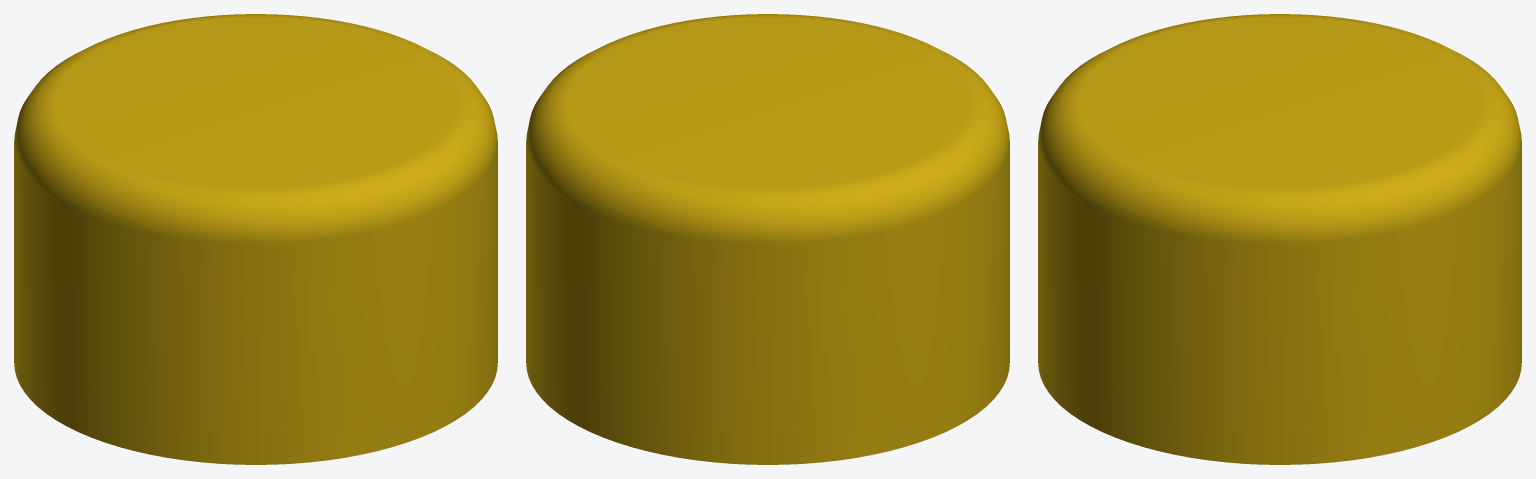
The picture shows the model from 3 angles, left to right: view 1: azimuth 30°, elevation 25°; view 2: azimuth 150°, elevation 25°; view 3: azimuth 270°, elevation 25°; orthographic projection.
Visible parts, largest first — view 1: pCylinder4; view 2: pCylinder4; view 3: pCylinder4.
Part boxes in pixels (x1=…): pCylinder4: x1=14, y1=14, x2=497, y2=464; pCylinder4: x1=526, y1=14, x2=1009, y2=464; pCylinder4: x1=1038, y1=14, x2=1521, y2=464.
Bounding box in the file's own units: 1.8 × 1.07 × 1.8.
